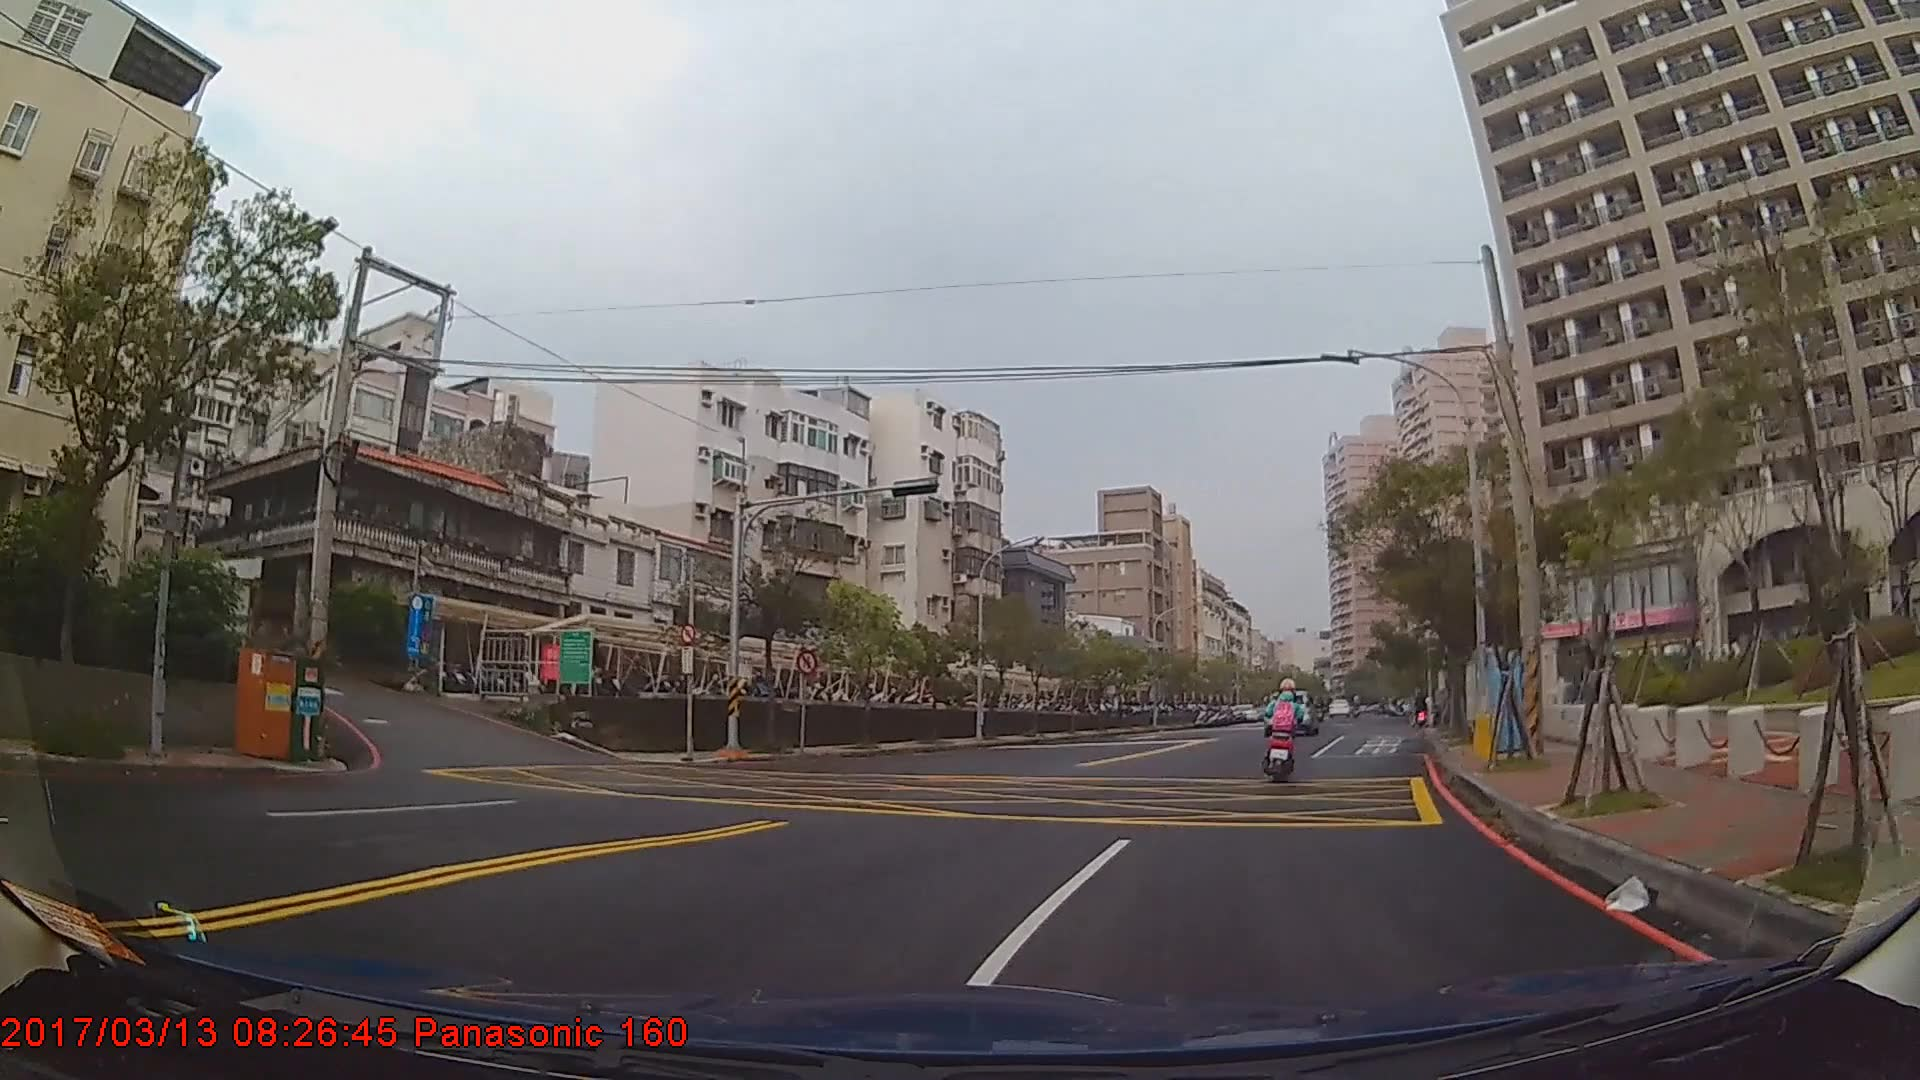rider: (1262, 679, 1309, 781)
vehicle: (1260, 686, 1319, 734)
